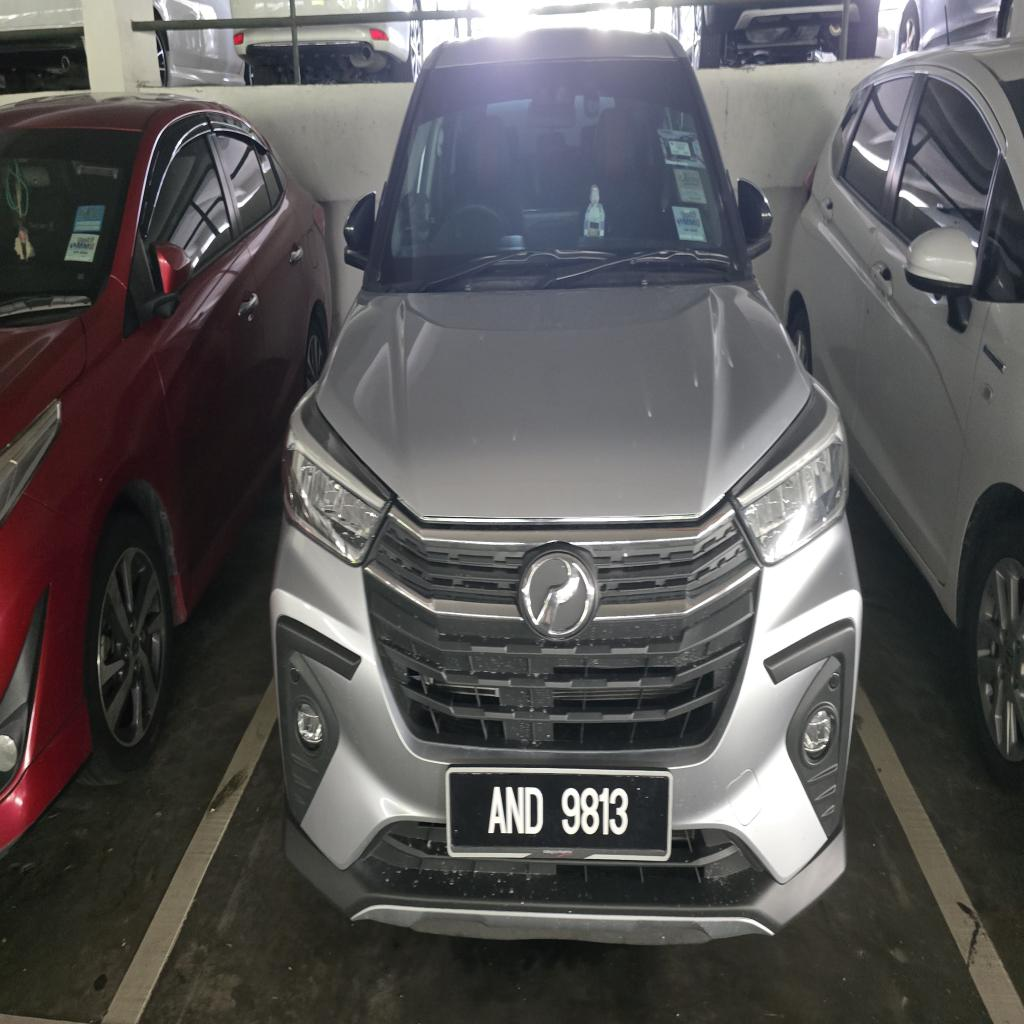car: (272, 31, 861, 943)
car plate: (446, 768, 672, 860)
